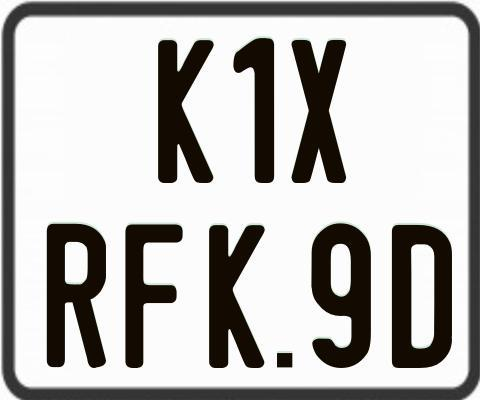1: (230, 36, 276, 181)
9: (310, 222, 375, 372)
D: (390, 224, 453, 371)
F: (122, 222, 186, 368)
K: (158, 37, 220, 183), (208, 225, 270, 371)
R: (46, 221, 108, 370)
X: (290, 37, 346, 186)
